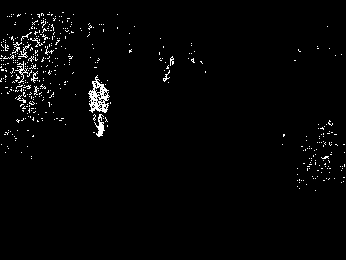person: (87, 74, 111, 138)
